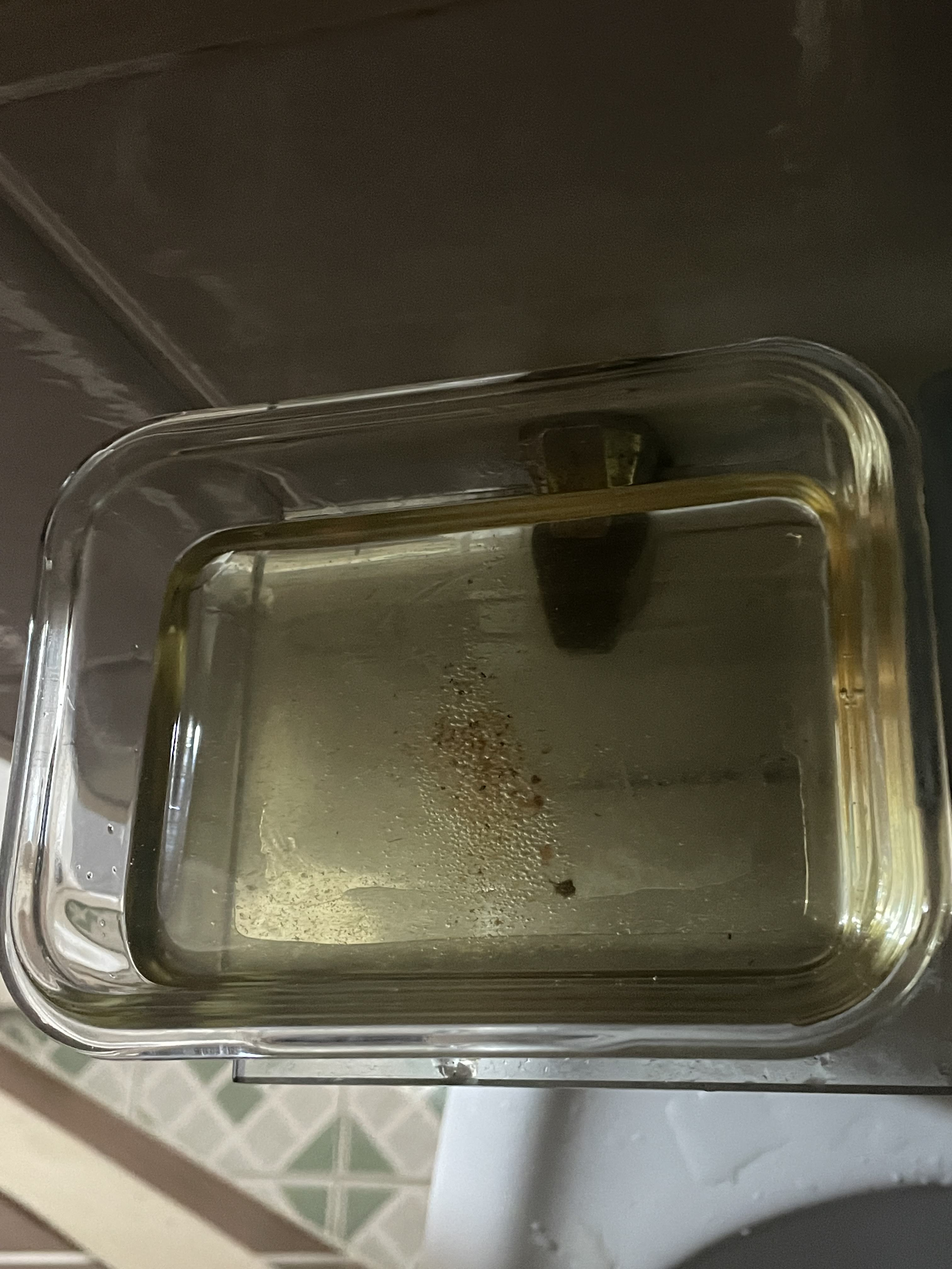reusable: (126, 472, 875, 995)
